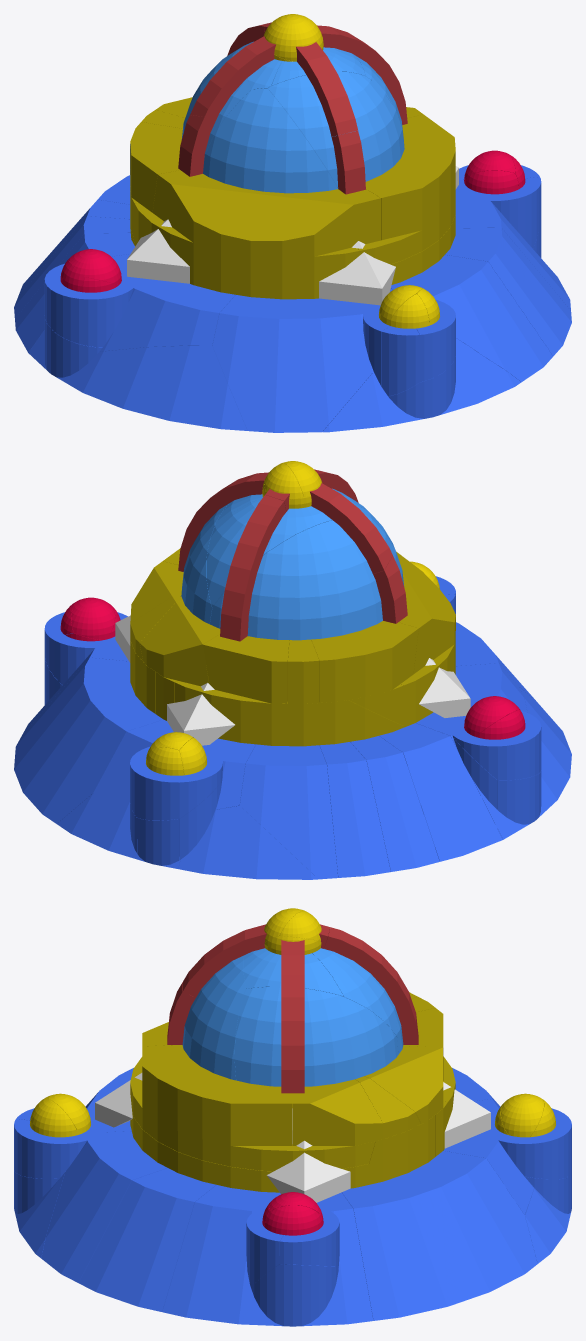
Rendered from SeaBunkerDebris.dae.
3 renders of one model, top to bottom at view 1: azimuth 30°, elevation 25°; view 2: azimuth 150°, elevation 25°; view 3: azimuth 270°, elevation 25°, orthographic.
Visible parts, largest first — view 1: Cylinder_cell.010, Cone_cell.002, Cylinder_cell.002, Sphere.005_cell.005, Cylinder_cell.005, Cylinder.005_cell.002, Cone_cell.007, Sphere.005_cell, Cylinder_cell.009, Cylinder_cell.012, Cylinder_cell.007, Cube (+30 smaller); view 2: Cylinder_cell.013, Sphere.005_cell.002, Cylinder_cell, Cylinder_cell.006, Cone_cell.004, Cylinder_cell.014, Cylinder_cell.004, Cylinder_cell.001, Cone_cell.001, Cylinder.005_cell.004, Cone_cell, Cylinder_cell.015 (+38 smaller); view 3: Cylinder_cell.013, Cylinder_cell.011, Sphere.005_cell.003, Cylinder_cell.012, Cone_cell.007, Cylinder_cell.005, Cylinder.005_cell.008, Sphere.005_cell, Cone_cell.006, Cube.001, Cylinder.001_cell.003, Cylinder.006_cell.002 (+30 smaller).
Part boxes in pixels (bbox=[...]): Cylinder_cell.010: bbox=[212, 288, 392, 432]; Cone_cell.002: bbox=[152, 170, 380, 257]; Cylinder_cell.002: bbox=[57, 345, 247, 430]; Sphere.005_cell.005: bbox=[203, 88, 338, 193]; Cylinder_cell.005: bbox=[391, 255, 552, 382]; Cylinder.005_cell.002: bbox=[135, 203, 359, 299]; Cone_cell.007: bbox=[365, 114, 455, 240]; Sphere.005_cell: bbox=[267, 71, 404, 187]; Cylinder_cell.009: bbox=[99, 278, 235, 351]; Cylinder_cell.012: bbox=[445, 227, 571, 356]; Cylinder_cell.007: bbox=[322, 338, 521, 432]; Cube: bbox=[127, 219, 395, 305]; Cylinder_cell.013: bbox=[14, 657, 163, 823]; Sphere.005_cell.002: bbox=[210, 520, 382, 640]; Cylinder_cell: bbox=[240, 744, 338, 879]; Cylinder_cell.006: bbox=[379, 723, 502, 861]; Cone_cell.004: bbox=[311, 621, 418, 702]; Cylinder_cell.014: bbox=[319, 742, 390, 877]; Cylinder_cell.004: bbox=[350, 736, 439, 871]; Cylinder_cell.001: bbox=[178, 805, 317, 879]; Cone_cell.001: bbox=[202, 634, 289, 703]; Cylinder.005_cell.004: bbox=[271, 700, 404, 746]; Cone_cell: bbox=[140, 601, 220, 686]; Cylinder_cell.015: bbox=[93, 719, 255, 809]; Cylinder_cell.013: bbox=[342, 1151, 537, 1320]; Cylinder_cell.011: bbox=[162, 1185, 373, 1326]; Sphere.005_cell.003: bbox=[234, 986, 398, 1086]; Cylinder_cell.012: bbox=[78, 1168, 216, 1311]; Cone_cell.007: bbox=[142, 1045, 292, 1145]; Cylinder_cell.005: bbox=[41, 1131, 167, 1282]; Cylinder.005_cell.008: bbox=[130, 1075, 375, 1171]; Sphere.005_cell: bbox=[182, 955, 245, 1080]; Cone_cell.006: bbox=[293, 1079, 383, 1145]; Cube.001: bbox=[267, 1082, 490, 1202]; Cylinder.001_cell.003: bbox=[251, 1264, 338, 1326]; Cylinder.006_cell.002: bbox=[281, 940, 304, 1093].
Bounding box in the file's own units: 7.5 × 7.5 × 4.41.
